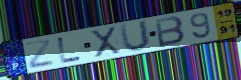9: (189, 12, 213, 40)
B: (154, 15, 187, 48)
L: (57, 36, 84, 65)
U: (118, 19, 151, 53)
X: (89, 25, 124, 60)
Z: (24, 39, 56, 70)
